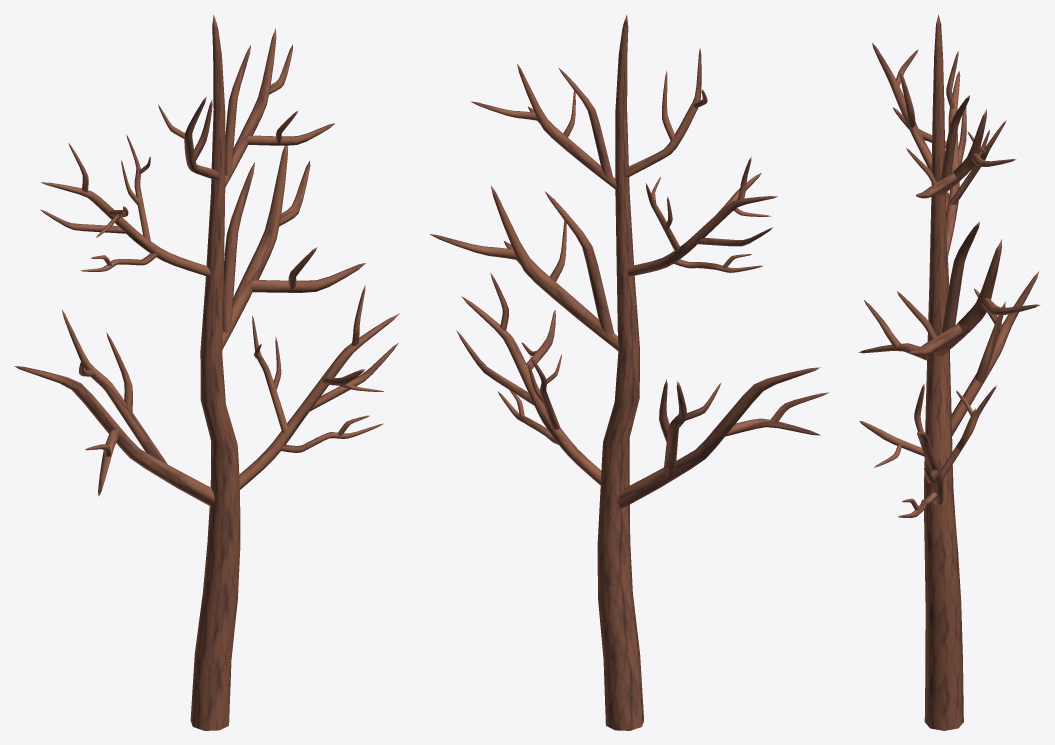
Rendered from dead_tree_2.gltf.
3 views of the same model, side by side, from view 1: azimuth 30°, elevation 25°; view 2: azimuth 150°, elevation 25°; view 3: azimuth 270°, elevation 25° (orthographic).
Parts seen in each view (by area): view 1: DeadTree_2; view 2: DeadTree_2; view 3: DeadTree_2.
Boxes of the visible parts, x1,y1,x2,y2 form: DeadTree_2: [14, 15, 399, 730]; DeadTree_2: [430, 14, 829, 730]; DeadTree_2: [858, 14, 1040, 730].
Size of the model in its own units: 3.42 by 6.2 by 1.45.
Materials: 1 (1 with a texture image).
